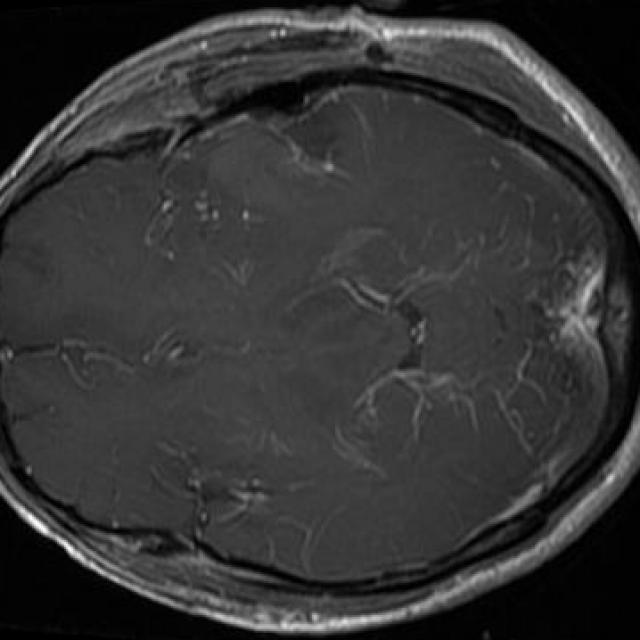glioma: (201, 91, 367, 200)
